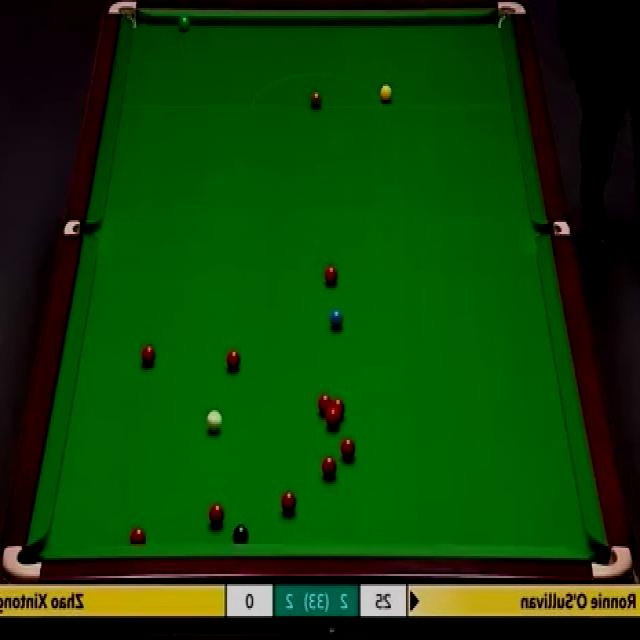black-ball: (232, 523, 248, 545)
blue-ball: (328, 308, 344, 329)
brown-ball: (310, 88, 322, 108)
green-ball: (177, 11, 190, 30)
red-ball: (320, 451, 337, 480), (225, 346, 242, 373), (280, 489, 296, 517), (208, 504, 225, 530), (324, 264, 339, 290), (341, 434, 355, 461), (142, 344, 156, 369), (332, 398, 346, 422), (318, 393, 331, 418), (129, 526, 147, 543), (324, 411, 340, 430)
white-ball: (205, 410, 223, 436)
yellow-ball: (381, 86, 393, 102)
